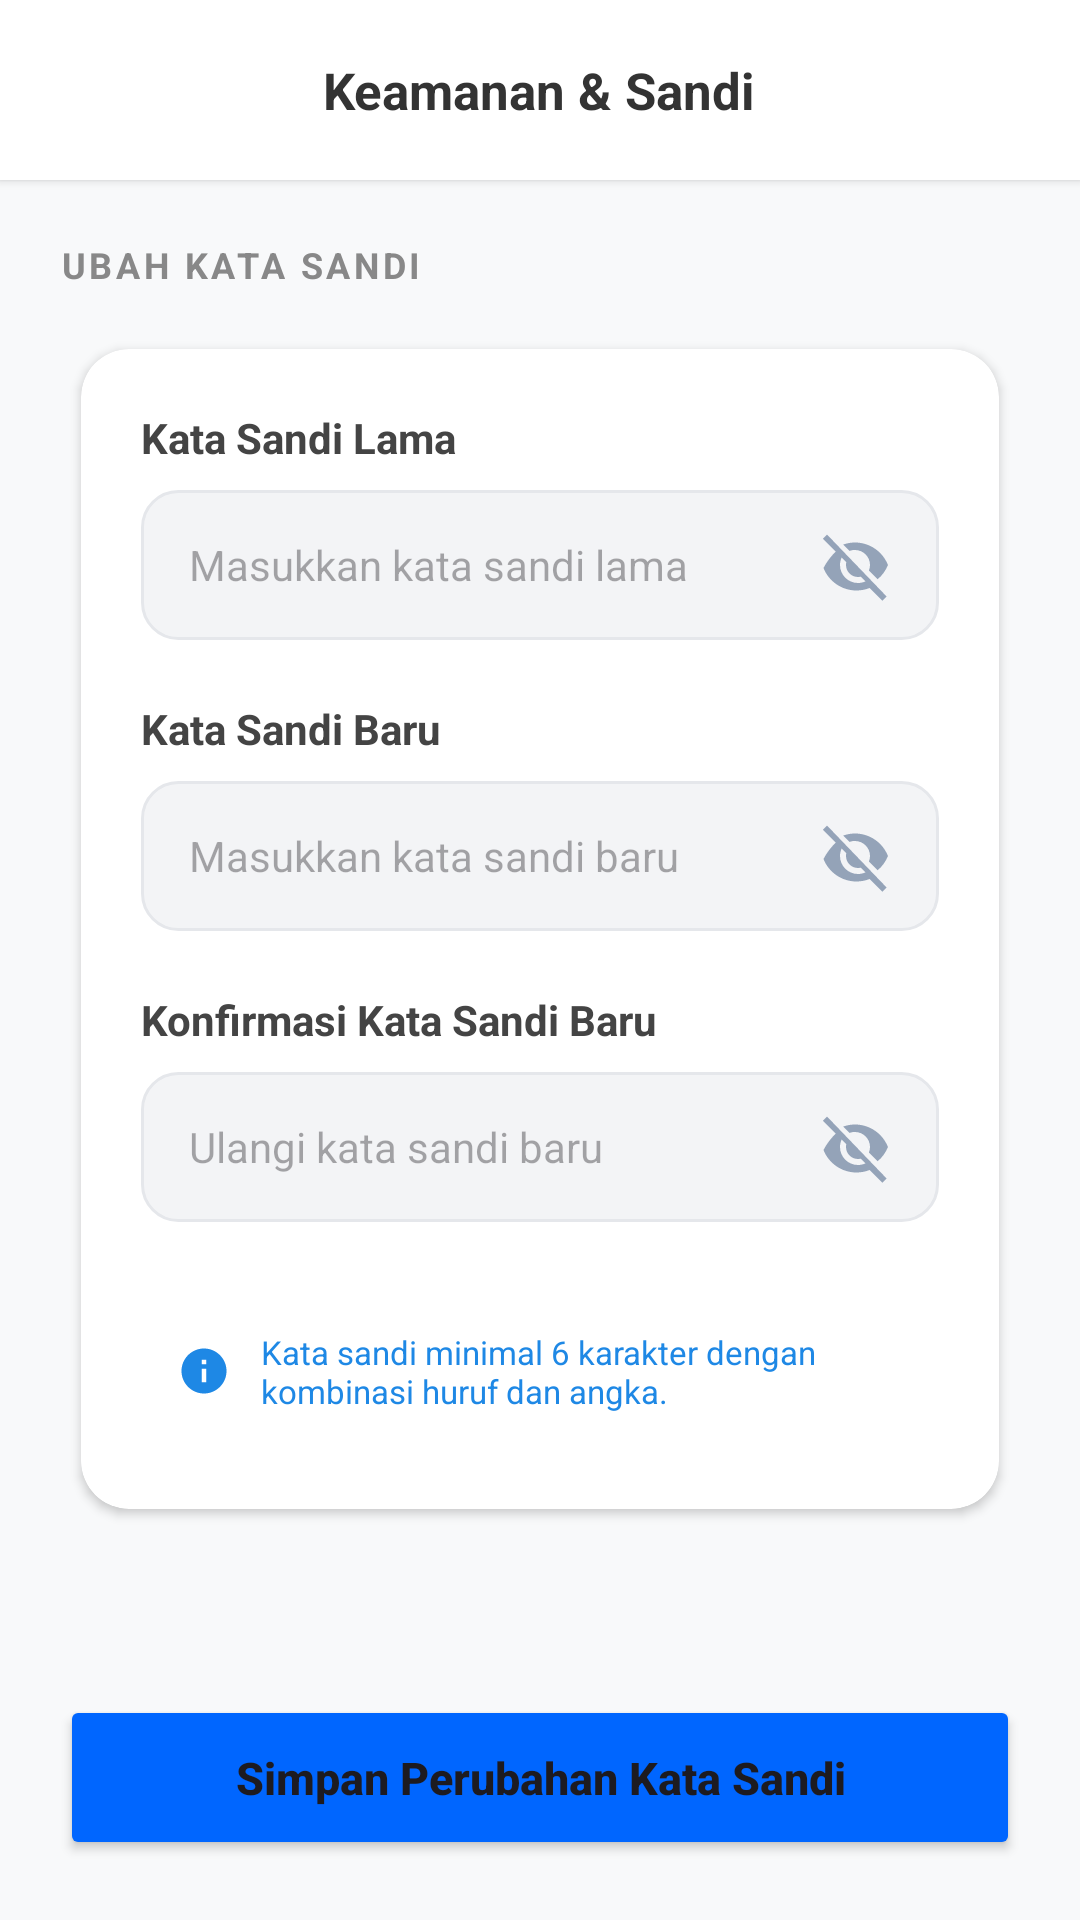

Icon click points for this 1080w x 1920h phone screenshot, format (x,y):
info: (204,1371)
